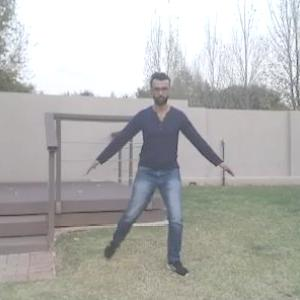land: (101, 74, 219, 277)
